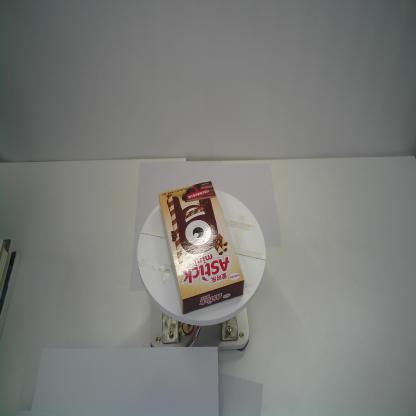Dessert: (158, 180, 246, 317)
